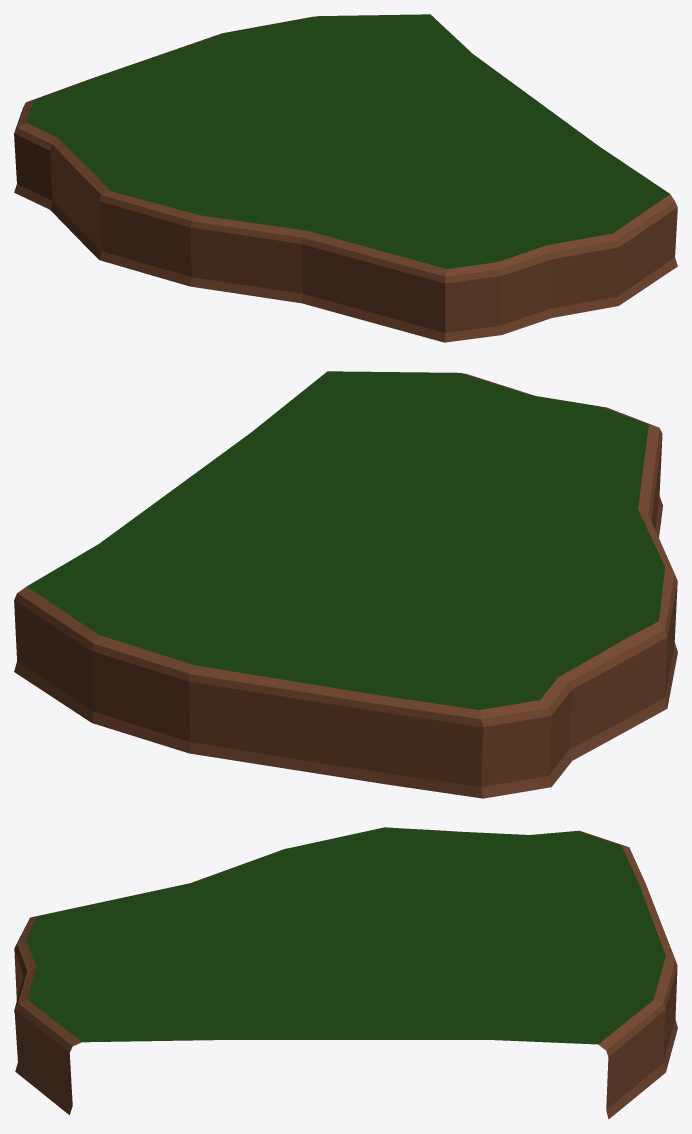
Rendered from SM_platform_grass_02.fbx.
3 views of the same model, one above another, from view 1: azimuth 30°, elevation 25°; view 2: azimuth 150°, elevation 25°; view 3: azimuth 270°, elevation 25° (orthographic). The views are drawn at different scales.
Visible parts, largest first — view 1: platform_grass_02; view 2: platform_grass_02; view 3: platform_grass_02.
Part boxes in pixels (x1,y1,x2,y2): platform_grass_02: (14,14,677,342); platform_grass_02: (14,371,677,798); platform_grass_02: (14,827,677,1119).
Bounding box in the file's own units: 3063 × 459 × 3822.
